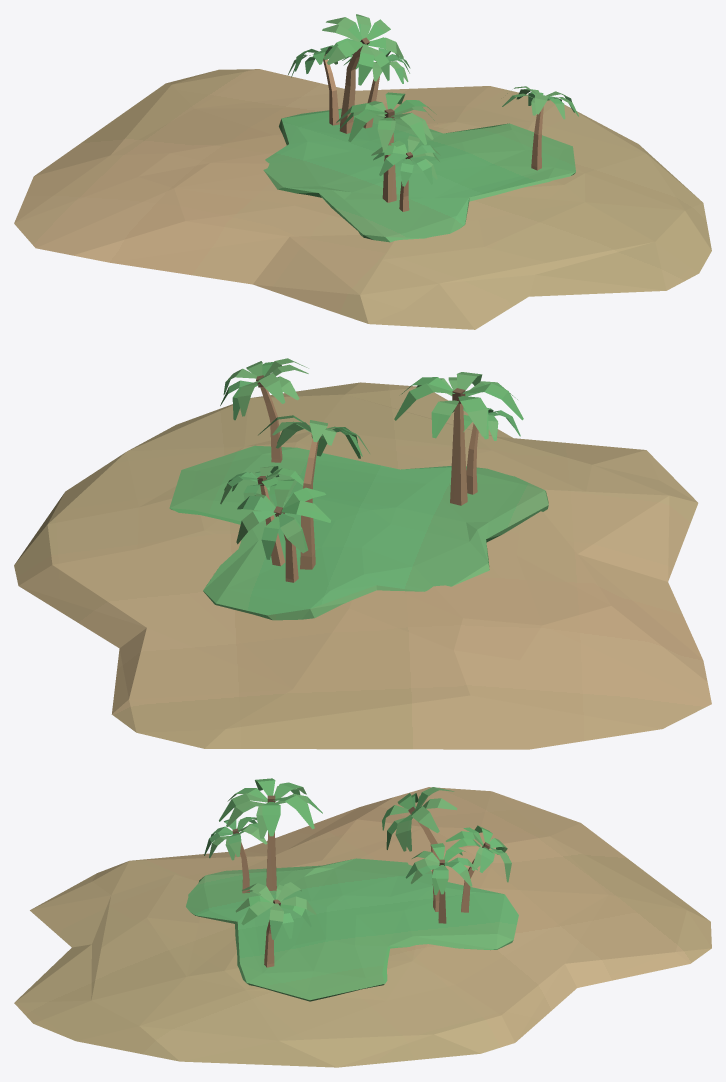
File: CHAHIN_ISLAND.gltf
3 views of the same model, one above another, from view 1: azimuth 30°, elevation 25°; view 2: azimuth 150°, elevation 25°; view 3: azimuth 270°, elevation 25° (orthographic). The views are drawn at different scales.
Visible parts, largest first — view 1: node-0; view 2: node-0; view 3: node-0.
Part boxes in pixels (x1,y1,x2,y2): node-0: (14,14,711,329); node-0: (14,358,711,749); node-0: (14,778,711,1067).
Size of the model in its own units: 47.54 by 12.34 by 49.93.
1 material, 1 textured.
